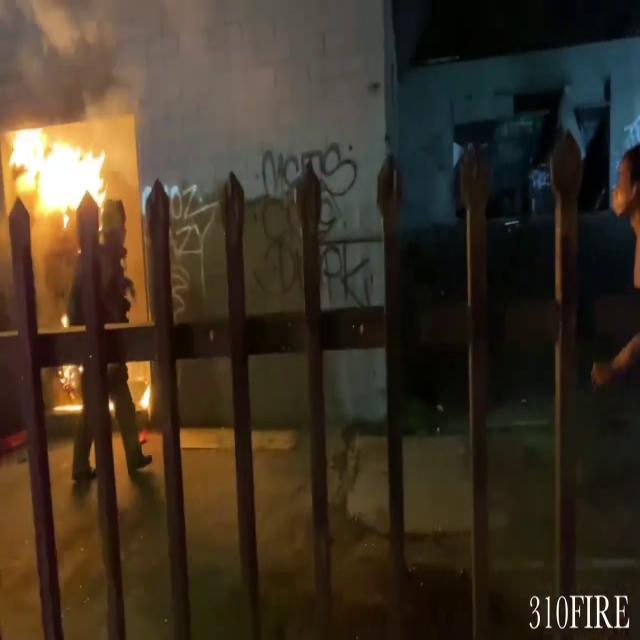Fire: (4, 120, 112, 230)
